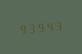four: (45, 19, 53, 32)
nine: (18, 22, 26, 35), (36, 20, 44, 33)
three: (54, 18, 62, 32), (27, 21, 35, 34)
